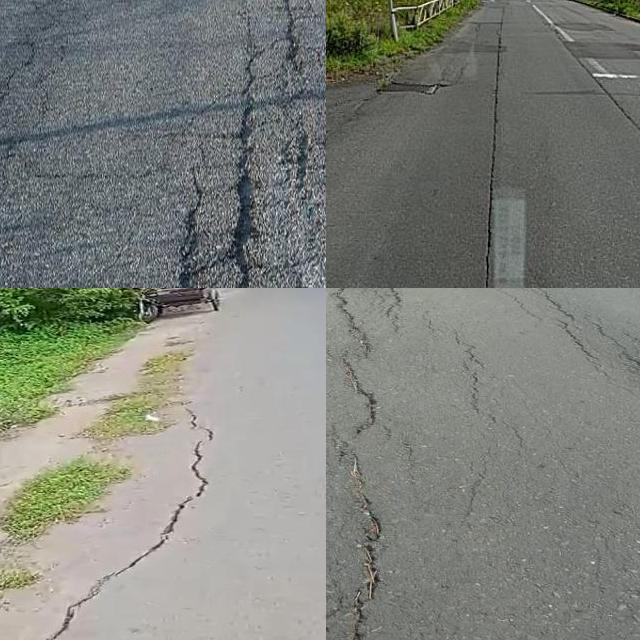Memanjang: (28, 397, 214, 640), (326, 288, 402, 640), (482, 288, 640, 411), (542, 10, 640, 137), (472, 0, 515, 288), (223, 22, 265, 288), (281, 0, 321, 68)
